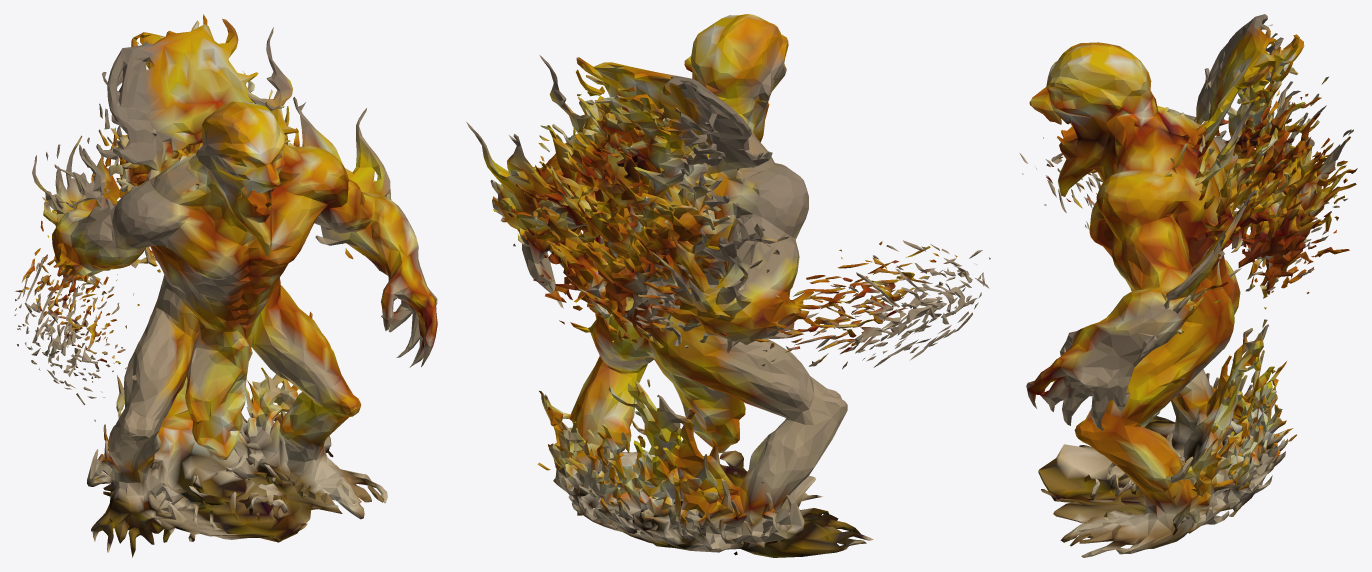
The model's file is fireSpiritSummon.glb.
3 renders of one model, left to right at view 1: azimuth 30°, elevation 25°; view 2: azimuth 150°, elevation 25°; view 3: azimuth 270°, elevation 25°, orthographic. The views are drawn at different scales.
Visible parts, largest first — view 1: world; view 2: world; view 3: world.
Part boxes in pixels (x1,y1,x2,y2): world: [14, 14, 437, 557]; world: [466, 14, 990, 557]; world: [1019, 14, 1357, 557].
Size of the model in its own units: 0.9573 by 1 by 0.6665.
